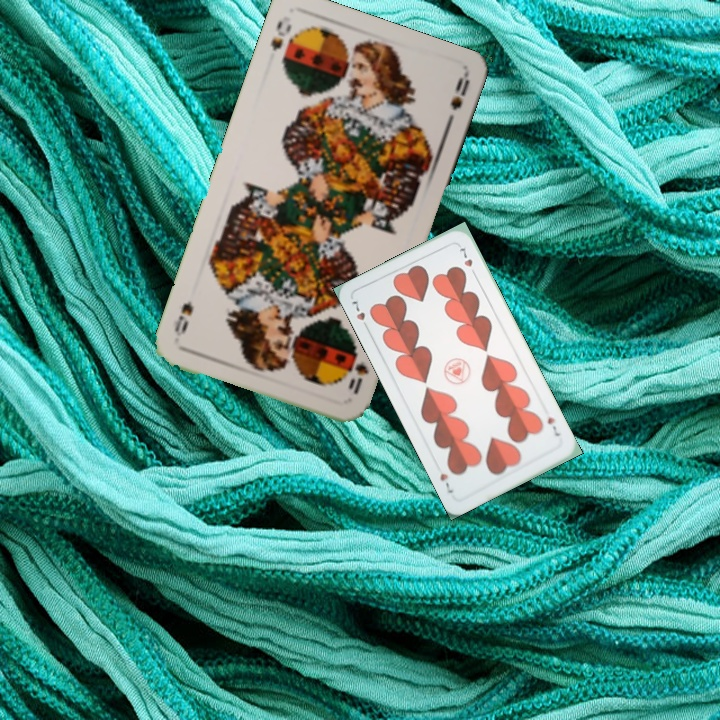H7: (347, 295, 371, 333), (543, 413, 562, 439)
SO: (344, 349, 371, 397), (266, 16, 294, 53)
